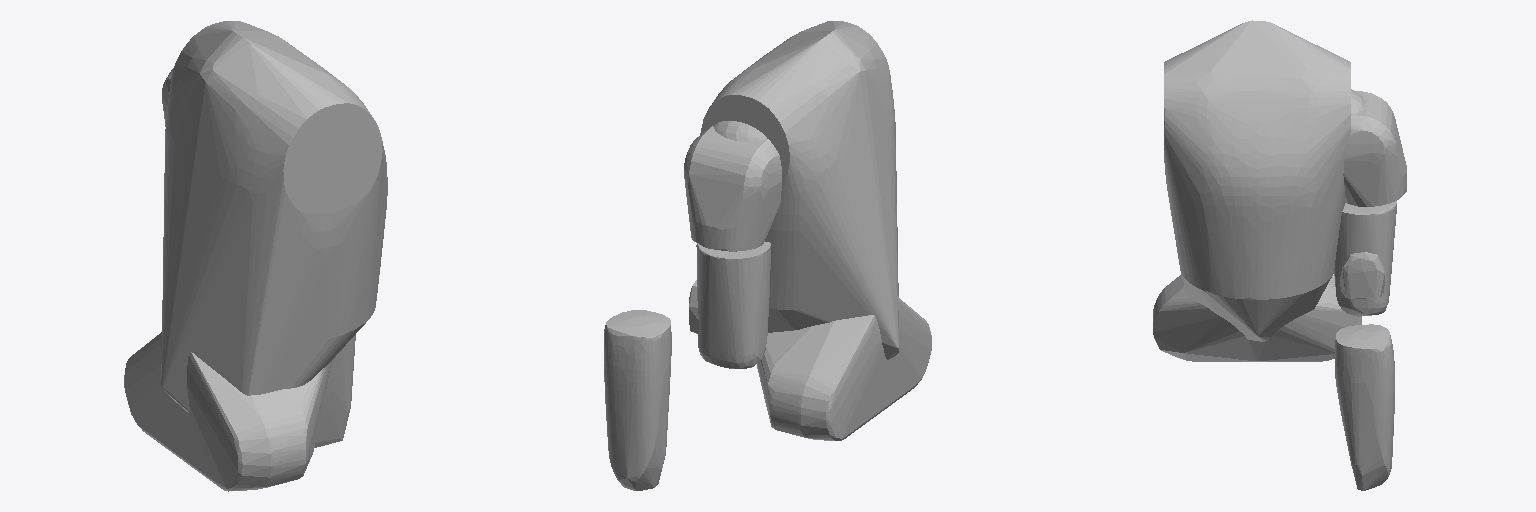
URDF robot description (z2_left_arm):
<?xml version="1.0" encoding="utf-8"?>
<!-- This URDF was automatically created by SolidWorks to URDF Exporter! Originally created by [author] ([email redacted]) 
     Commit Version: 1.6.0-4-g7f85cfe  Build Version: 1.6.7995.38578
     For more information, please see http://wiki.ros.org/sw_urdf_exporter -->
<robot
  name="z2_left_arm">
  <link
    name="pelvis">
    <inertial>
      <origin
        xyz="0.0001 0 0.0044"
        rpy="0 0 0" />
      <mass
        value="3.4083" />
      <inertia
        ixx="0.0095"
        ixy="0"
        ixz="0"
        iyy="0.0056"
        iyz="0"
        izz="0.0094" />
    </inertial>
    <visual>
      <origin
        xyz="0 0 0"
        rpy="0 0 0" />
      <geometry>
        <mesh
          filename="package://meshes/pelvis.STL" />
      </geometry>
      <material
        name="">
        <color
          rgba="0.75294 0.75294 0.75294 1" />
      </material>
    </visual>
  </link>
  <!-- ###################################################################-->  
  <!-- ###########################  waist ################################-->  
  <!-- ###################################################################-->  
  <link
    name="link_wy">
    <inertial>
      <origin
        xyz="0.0061 0.0003 0.1879"
        rpy="0 0 0" />
      <mass
        value="9.8779" />
      <inertia
        ixx="0.1556"
        ixy="0"
        ixz="-0.0015"
        iyy="0.1368"
        iyz="0"
        izz="0.0457" />
    </inertial>
    <visual>
      <origin
        xyz="0 0 0"
        rpy="0 0 0" />
      <geometry>
        <mesh
          filename="package://meshes/link_wy.STL" />
      </geometry>
      <material
        name="">
        <color
          rgba="0.75294 0.75294 0.75294 1" />
      </material>
    </visual>
  </link>
  <joint
    name="joint_wy"
    type="fixed">
    <origin
      xyz="0 0 0.0619"
      rpy="0 0 0" />
    <parent
      link="pelvis" />
    <child
      link="link_wy" />
    <axis
      xyz="0 0 1" />
    <limit
      lower="-2.79"
      upper="2.79"
      effort="120"
      velocity="20" />
  </joint>  
  <!-- ###################################################################-->  
  <!-- ###########################  l_arm ################################-->  
  <!-- ###################################################################-->  
  <link
    name="link_la1">
    <inertial>
      <origin
        xyz="0.0033 0.0422 -0.0117"
        rpy="0 0 0" />
      <mass
        value="0.8939" />
      <inertia
        ixx="0.001"
        ixy="0"
        ixz="0"
        iyy="0.0007"
        iyz="0.0001"
        izz="0.0009" />
    </inertial>
    <visual>
      <origin
        xyz="0 0 0"
        rpy="0 0 0" />
      <geometry>
        <mesh
          filename="package://meshes/link_la1.STL" />
      </geometry>
      <material
        name="">
        <color
          rgba="0.75294 0.75294 0.75294 1" />
      </material>
    </visual>
  </link>
  <joint
    name="joint_la1"
    type="revolute">
    <origin
      xyz="0 0.11963 0.3208"
      rpy="0 0 0" />
    <parent
      link="link_wy" />
    <child
      link="link_la1" />
    <axis
      xyz="0 0.99255 -0.12187" />
    <limit
      lower="-2.88"
      upper="2.88"
      effort="50"
      velocity="14" />
  </joint>
  <link
    name="link_la2">
    <inertial>
      <origin
        xyz="-0.0006 0.0016 -0.0673"
        rpy="0 0 0" />
      <mass
        value="0.7787" />
      <inertia
        ixx="0.0012"
        ixy="0"
        ixz="0"
        iyy="0.0013"
        iyz="0"
        izz="0.0007" />
    </inertial>
    <visual>
      <origin
        xyz="0 0 0"
        rpy="0 0 0" />
      <geometry>
        <mesh
          filename="package://meshes/link_la2.STL" />
      </geometry>
      <material
        name="">
        <color
          rgba="0.75294 0.75294 0.75294 1" />
      </material>
    </visual>
  </link>
  <joint
    name="joint_la2"
    type="revolute">
    <origin
      xyz="0 0.047187 -0.013786"
      rpy="0 0 0" />
    <parent
      link="link_la1" />
    <child
      link="link_la2" />
    <axis
      xyz="1 0 0" />
    <limit
      lower="-0.175"
      upper="2.2515"
      effort="50"
      velocity="14" />
  </joint>
  <link
    name="link_la3">
    <inertial>
      <origin
        xyz="0.0035409 -0.00073964 -0.044592"
        rpy="0 0 0" />
      <mass
        value="0.35928" />
      <inertia
        ixx="0.0009"
        ixy="0"
        ixz="0.0001"
        iyy="0.0008"
        iyz="0"
        izz="0.0005" />
    </inertial>
    <visual>
      <origin
        xyz="0 0 0"
        rpy="0 0 0" />
      <geometry>
        <mesh
          filename="package://meshes/link_la3.STL" />
      </geometry>
      <material
        name="">
        <color
          rgba="0.75294 0.75294 0.75294 1" />
      </material>
    </visual>
  </link>
  <joint
    name="joint_la3"
    type="revolute">
    <origin
      xyz="0 0 -0.1171"
      rpy="0 0 0" />
    <parent
      link="link_la2" />
    <child
      link="link_la3" />
    <axis
      xyz="0 0 1" />
    <limit
      lower="-2.618"
      upper="2.618"
      effort="50"
      velocity="14" />
  </joint>
  <link
    name="link_la4">
    <inertial>
      <origin
        xyz="0.0447 -0.0015 -0.0086458"
        rpy="0 0 0" />
      <mass
        value="1.48" />
      <inertia
        ixx="0.0012"
        ixy="0.0001"
        ixz="0.0006"
        iyy="0.0046"
        iyz="0"
        izz="0.0044" />
    </inertial>
    <visual>
      <origin
        xyz="0 0 0"
        rpy="0 0 0" />
      <geometry>
        <mesh
          filename="package://meshes/link_la4.STL" />
      </geometry>
      <material
        name="">
        <color
          rgba="0.75294 0.75294 0.75294 1" />
      </material>
    </visual>
  </link>
  <joint
    name="joint_la4"
    type="revolute">
    <origin
      xyz="0.01924 0 -0.0979"
      rpy="0 0 0" />
    <parent
      link="link_la3" />
    <child
      link="link_la4" />
    <axis
      xyz="0 1 0" />
    <limit
      lower="-0.96"
      upper="2.0944"
      effort="50"
      velocity="14" />
  </joint>
  <link
    name="link_la5">
    <inertial>
      <origin
        xyz="0.025808 0.00016898 0.00074869"
        rpy="0 0 0" />
      <mass
        value="0.2728" />
      <inertia
        ixx="0.0002"
        ixy="0"
        ixz="0"
        iyy="0.0003"
        iyz="0"
        izz="0.0003" />
    </inertial>
    <visual>
      <origin
        xyz="0 0 0"
        rpy="0 0 0" />
      <geometry>
        <mesh
          filename="package://meshes/link_la5.STL" />
      </geometry>
      <material
        name="">
        <color
          rgba="0.75294 0.75294 0.75294 1" />
      </material>
    </visual>
  </link>
  <joint
    name="joint_la5"
    type="revolute">
    <origin
      xyz="0.138 0 -0.017415"
      rpy="0 0 0" />
    <parent
      link="link_la4" />
    <child
      link="link_la5" />
    <axis
      xyz="1 0 0" />
    <limit
      lower="-2.618"
      upper="2.618"
      effort="50"
      velocity="14" />
  </joint>
</robot>

--- What the picture shows (computed from the rendered views, not written in the file) ---
Views: 3 orthographic renders of the robot side by side, from view 1: azimuth 30°, elevation 25°; view 2: azimuth 150°, elevation 25°; view 3: azimuth 270°, elevation 25°.
Model z2_left_arm with 7 links and 6 joints (5 revolute, 1 fixed), rooted at pelvis, posed all joints at 0.
Visible links, largest first — view 1: link_wy, pelvis, link_la5; view 2: link_wy, pelvis, link_la5, link_la2, link_la3, link_la1; view 3: link_wy, pelvis, link_la5, link_la2, link_la3, link_la4.
Boxes of the visible links, <box> form: link_wy: <box>161,21,387,413</box>; pelvis: <box>124,332,331,491</box>; link_la5: <box>315,335,355,447</box>; link_wy: <box>700,21,898,359</box>; pelvis: <box>757,297,931,440</box>; link_la5: <box>604,310,671,490</box>; link_la2: <box>684,125,781,251</box>; link_la3: <box>696,242,770,368</box>; link_la1: <box>713,121,766,141</box>; link_wy: <box>1164,20,1350,341</box>; pelvis: <box>1153,275,1361,361</box>; link_la5: <box>1335,324,1394,490</box>; link_la2: <box>1343,91,1406,206</box>; link_la3: <box>1334,201,1396,316</box>; link_la4: <box>1340,252,1384,298</box>.
Size in the robot's own frame: 0.3843 by 0.4021 by 0.7076 metres.
Meshes: 7 distinct files referenced, 7 mesh visuals loaded (7 binary STL).
